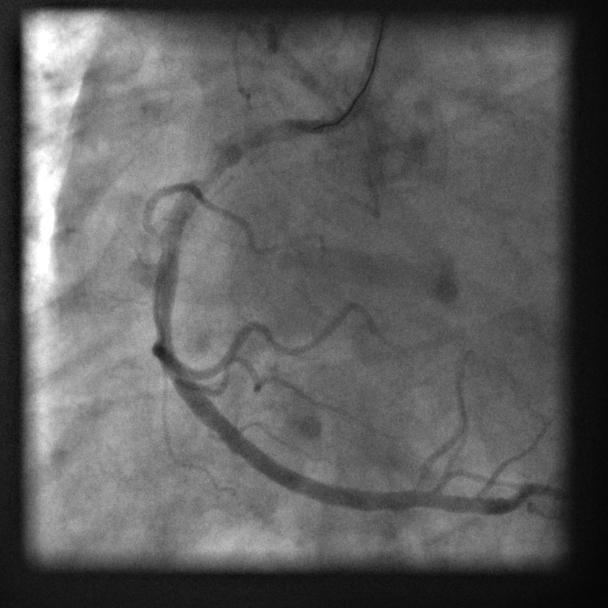Stenosis: (187, 152, 229, 205)
